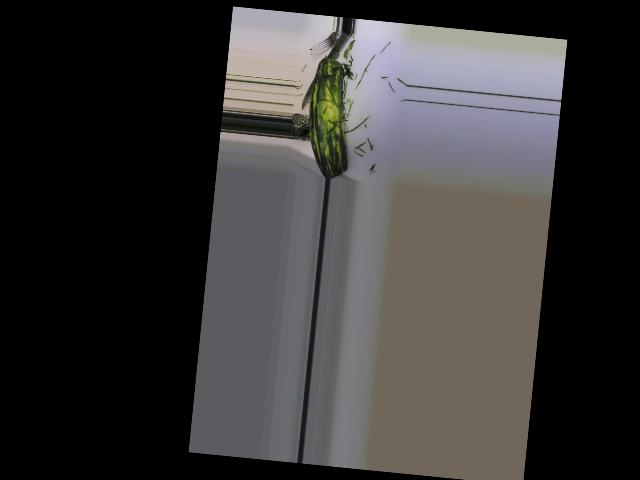cucumber: (303, 56, 358, 179)
